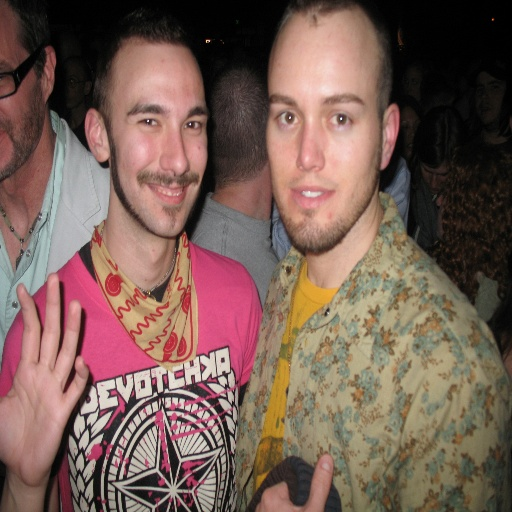hand: (2, 256, 78, 506), (253, 452, 335, 511)
